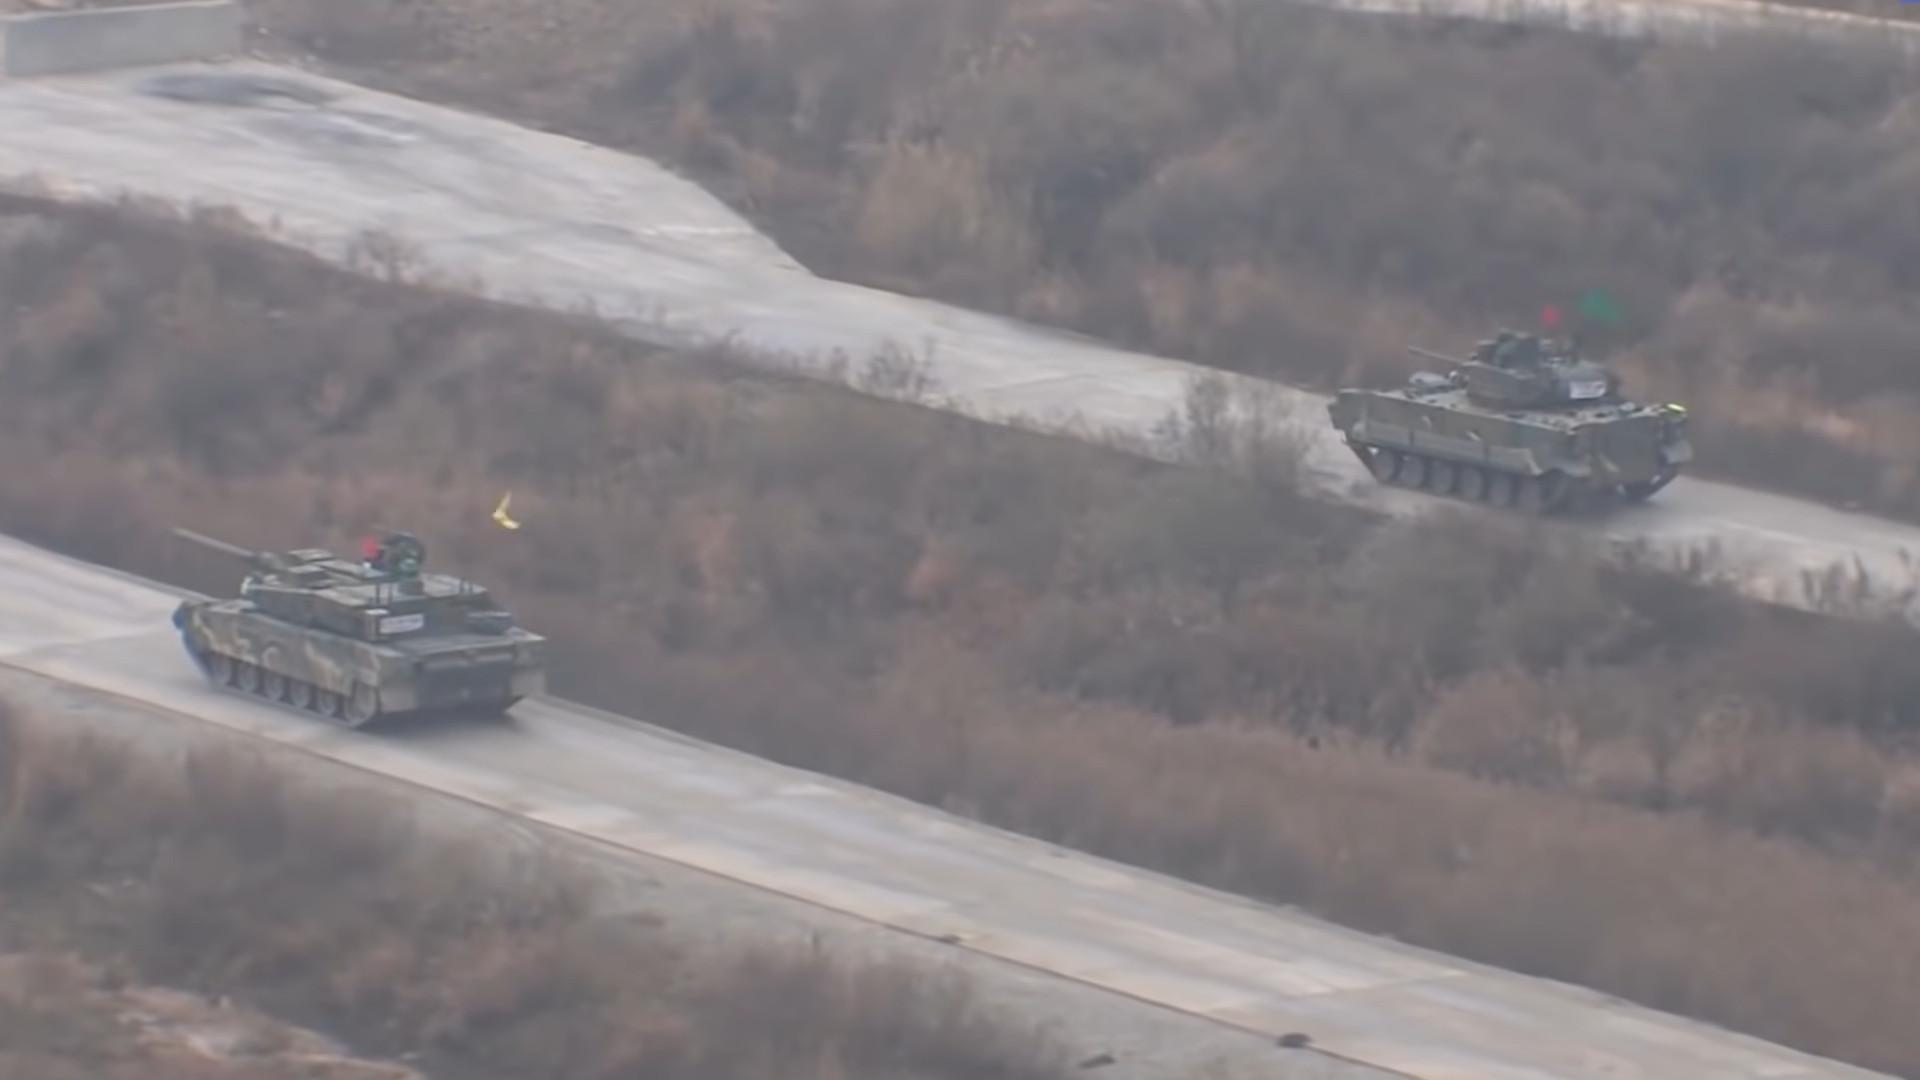tank: (166, 526, 546, 729), (1328, 327, 1695, 514)
